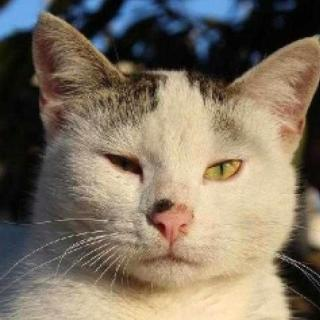cat: (31, 8, 320, 297)
nose: (140, 182, 206, 250)
